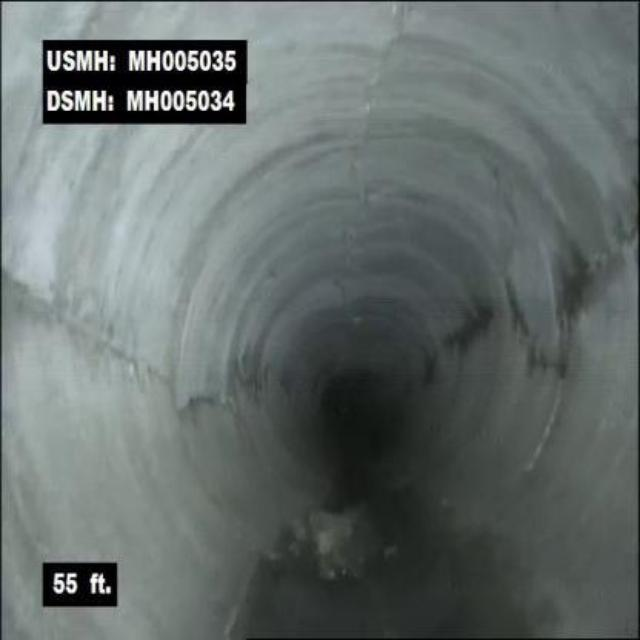Crack: (0, 242, 165, 385), (360, 6, 415, 140), (566, 222, 637, 289)
Debris: (295, 503, 391, 592)
